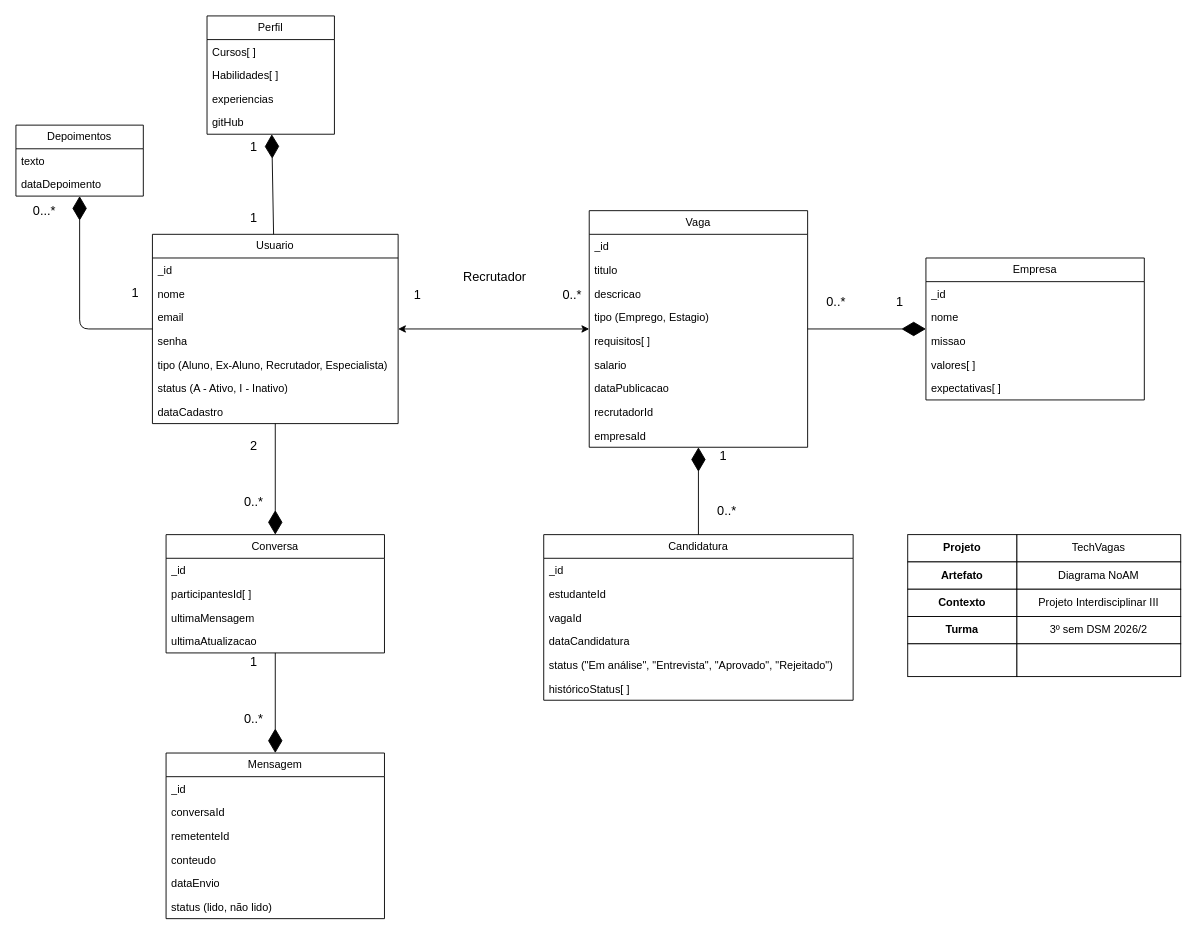
Some shapes in this 1197 by 937 pixel diagram are drawn without their labels. The shapes that lost their labels are listed below. From the top down, each one's centre as x and y in pixels, then its label:
(962,660): Altores
(1098,660): - Gabriel Moreti Oliveira - Thiago Henrique Vieira
